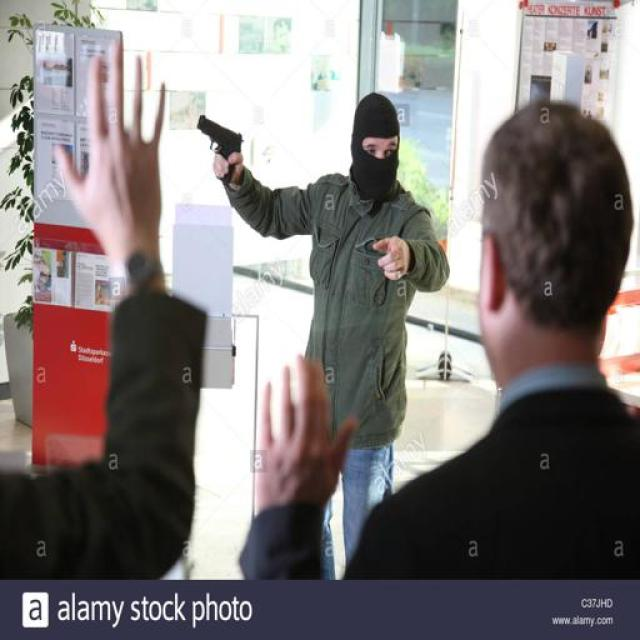pistol: (196, 112, 242, 185)
